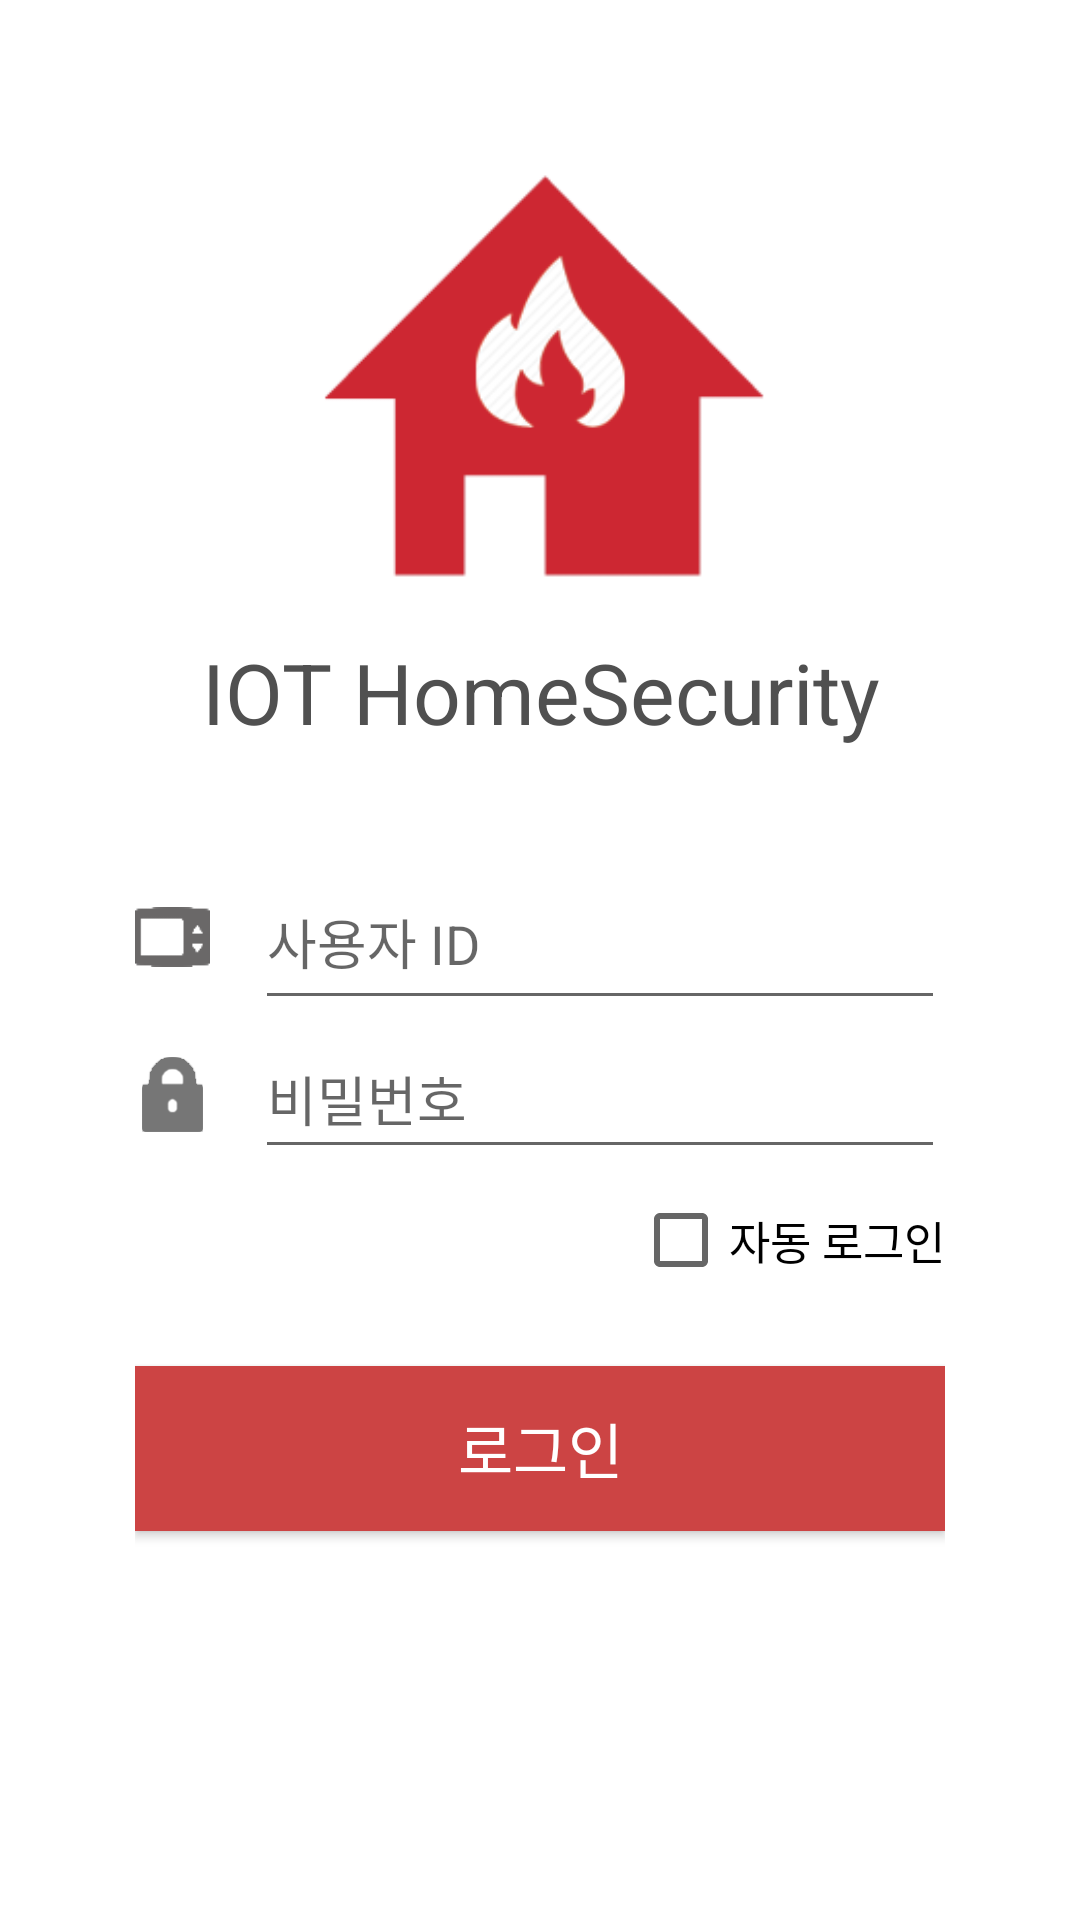

Screen size 1080*1920. Icon name, then its center in pixels as [x,y]:
lock: [172,1094]
